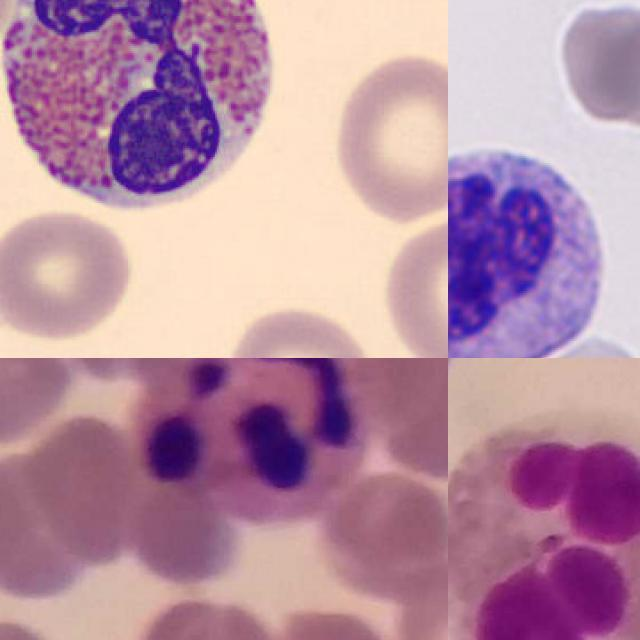Eosinophil: (0, 0, 295, 227), (448, 410, 640, 640)
Lymphocyte: (448, 131, 619, 358)
Neutrophil: (139, 358, 366, 521)
RBC: (327, 46, 448, 227), (0, 204, 138, 344), (552, 0, 640, 127), (378, 208, 448, 358), (222, 300, 380, 358), (612, 0, 640, 134)
